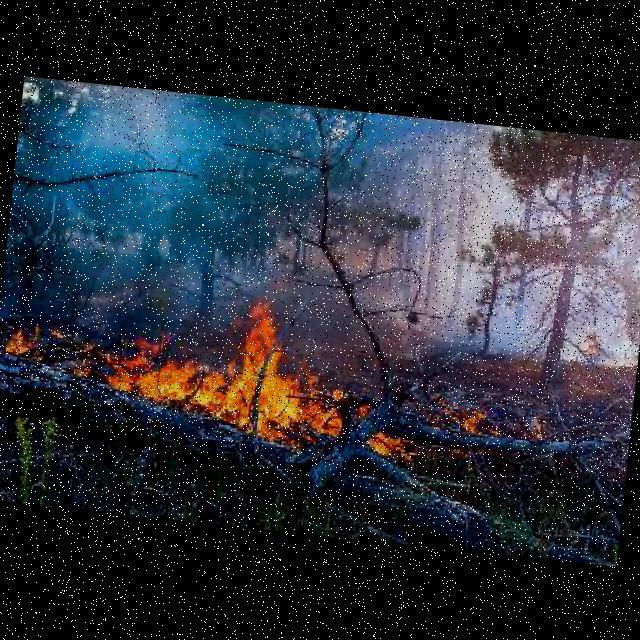Fire: (0, 259, 591, 503)
